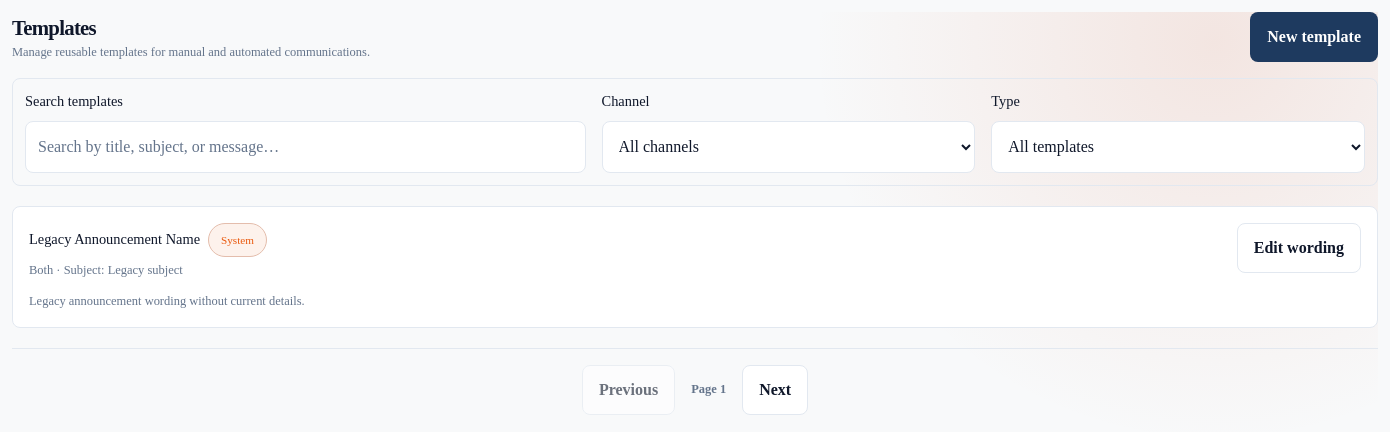
TemplatesPanel › paginates communication templates across pages
The image size is (1390, 432).
Expected: the element "Legacy Announcement Name" is shown, top-left (12, 206), bottom-right (1378, 328)
Expected: the button with aria-label "Previous page" is disabled, top-left (582, 365), bottom-right (675, 415)
Click the button with aria-label "Next page". click: {"x": 775, "y": 390}
box: top-left (742, 365), bottom-right (808, 415)
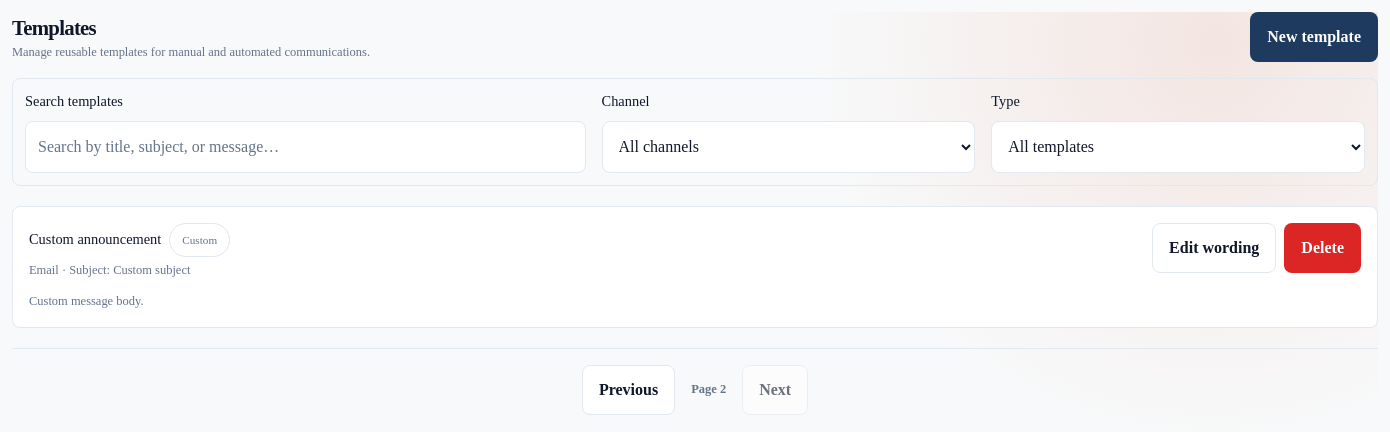
Now the element "Custom announcement" is shown, box top-left (12, 206), bottom-right (1378, 328)
Now the button with aria-label "Next page" is disabled, box top-left (742, 365), bottom-right (808, 415)
Now the button with aria-label "Previous page" is enabled, box top-left (582, 365), bottom-right (675, 415)
